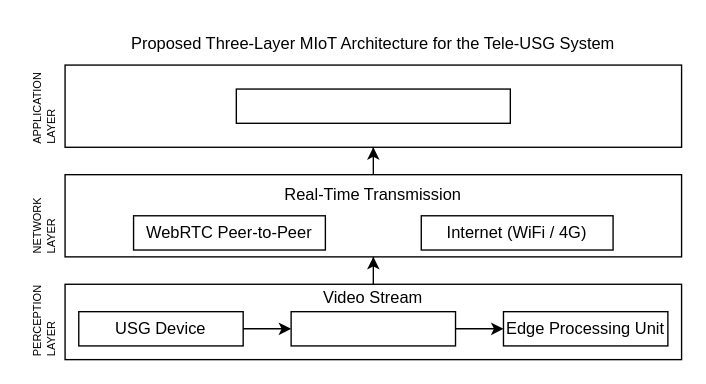
Image size: 706x384. Some labels were removed from this diagram. The shapes that lost their labels are listed below. From the top down, each one's box as (x1, y1, x2, y2) in pixels, then its label:
(235, 88, 510, 123): Tele-USG Desktop Application
(290, 310, 456, 346): Video Capture
